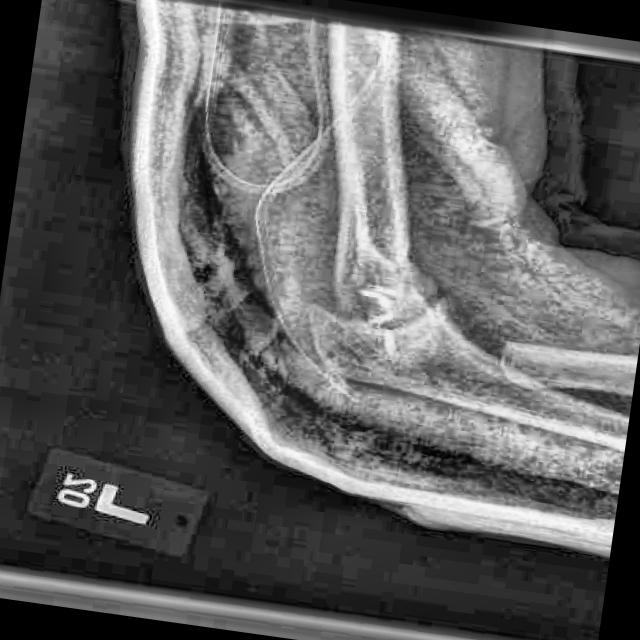elbow positive: (281, 284, 378, 349)
